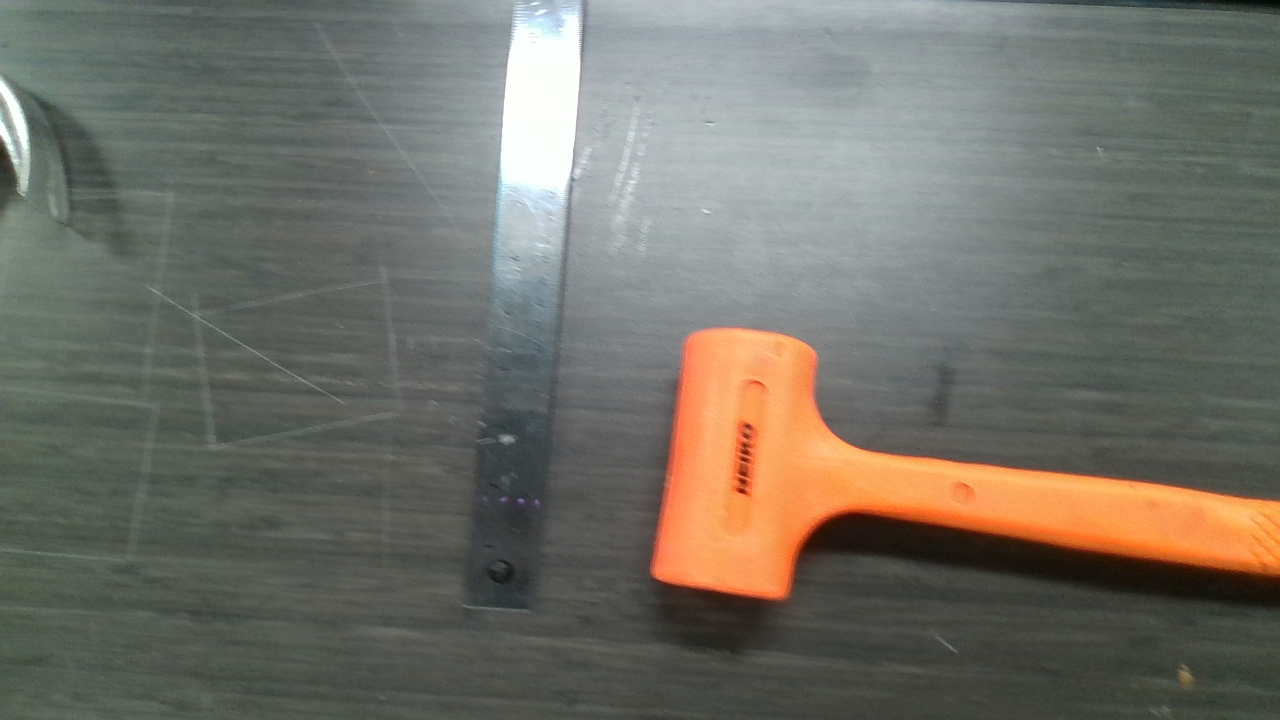Orange Hammer: (656, 328, 1273, 609)
